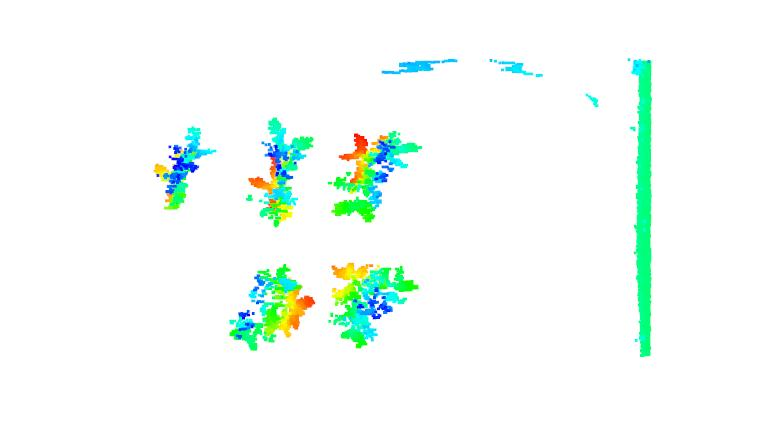chickpea: (331, 128, 423, 223), (328, 259, 420, 349), (226, 264, 315, 351), (247, 116, 315, 224), (154, 124, 219, 212)
